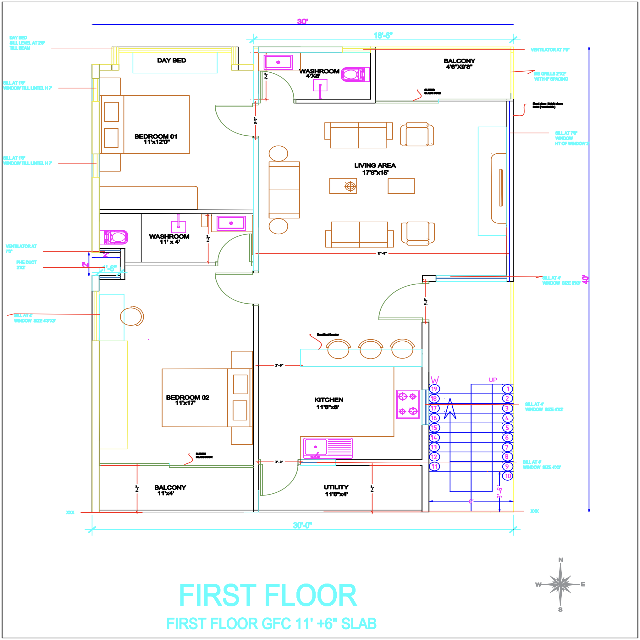door: (379, 281, 428, 322), (214, 102, 259, 139), (257, 461, 301, 497), (213, 271, 257, 306), (259, 69, 298, 103), (216, 231, 254, 263)
